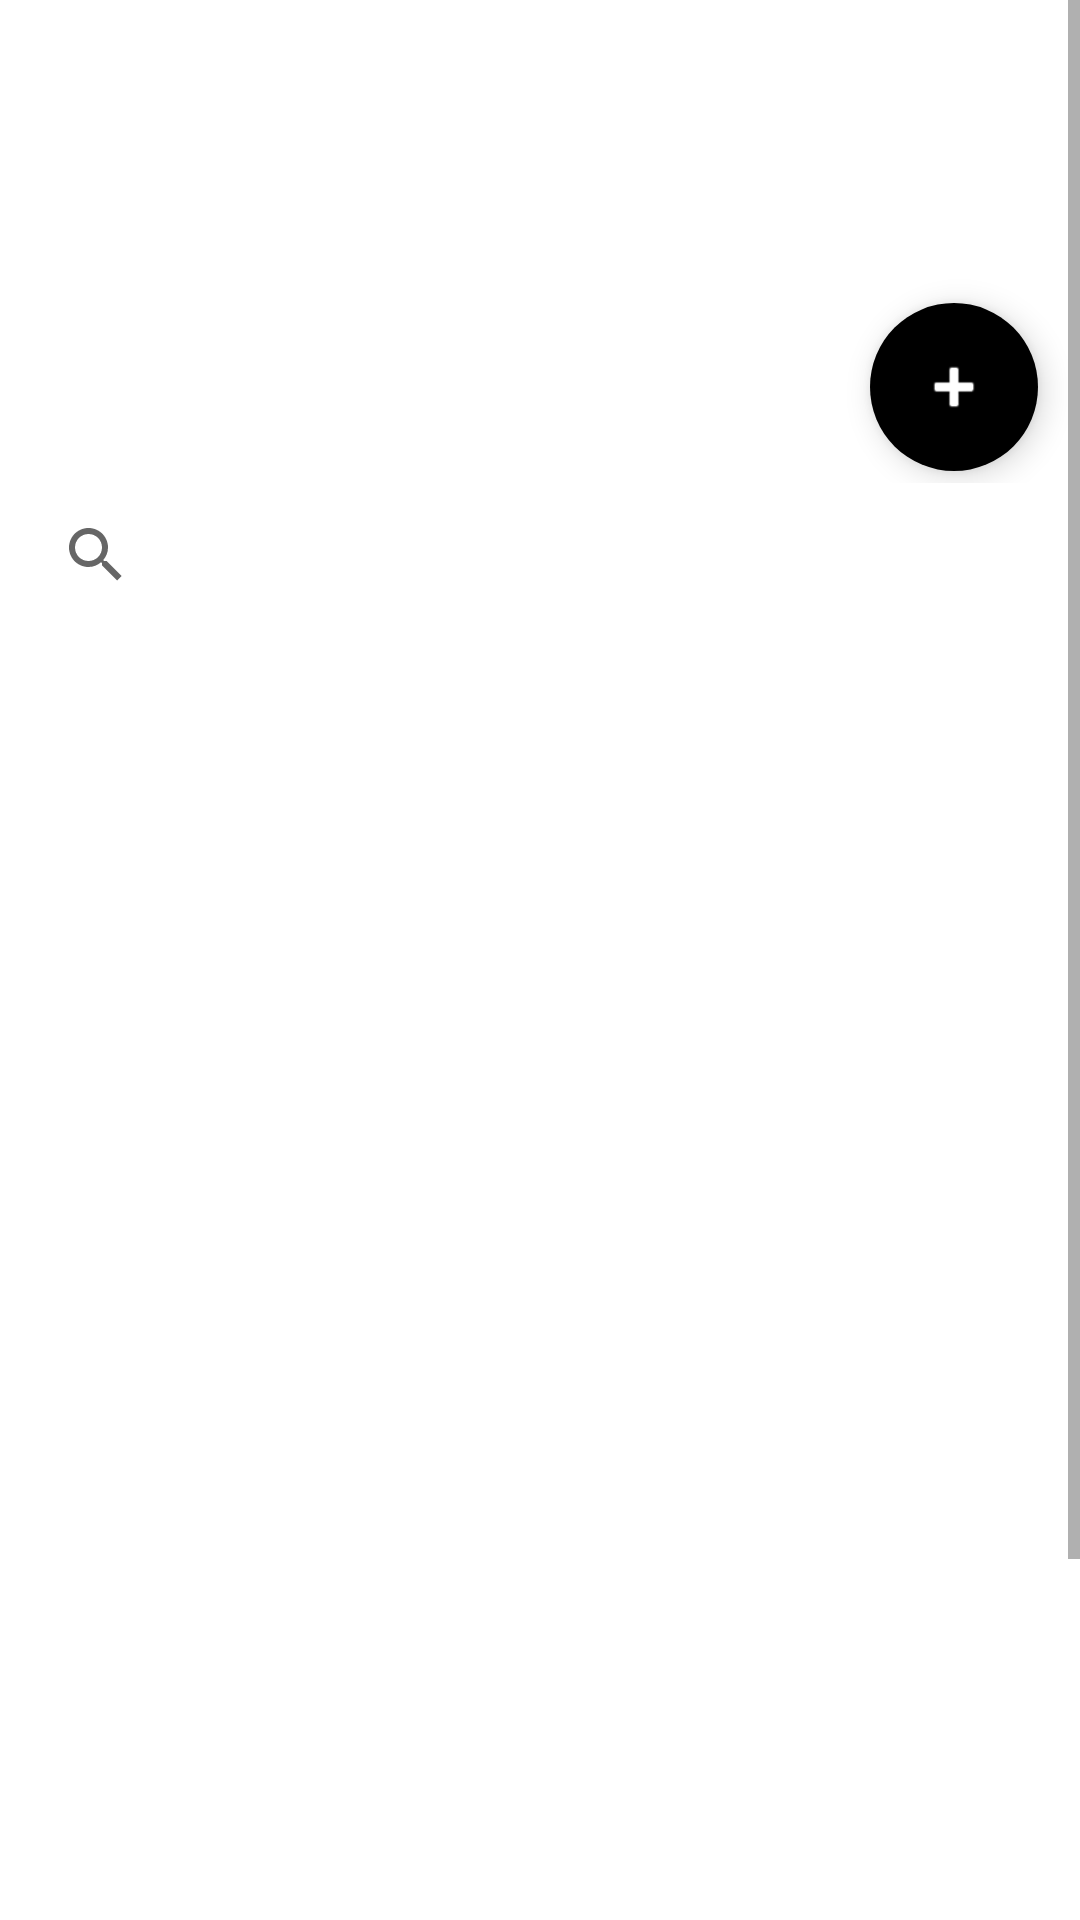

Screen size 1080×1920. Icon name, then its center in pixels as point (x, y):
add: point (954, 387)
